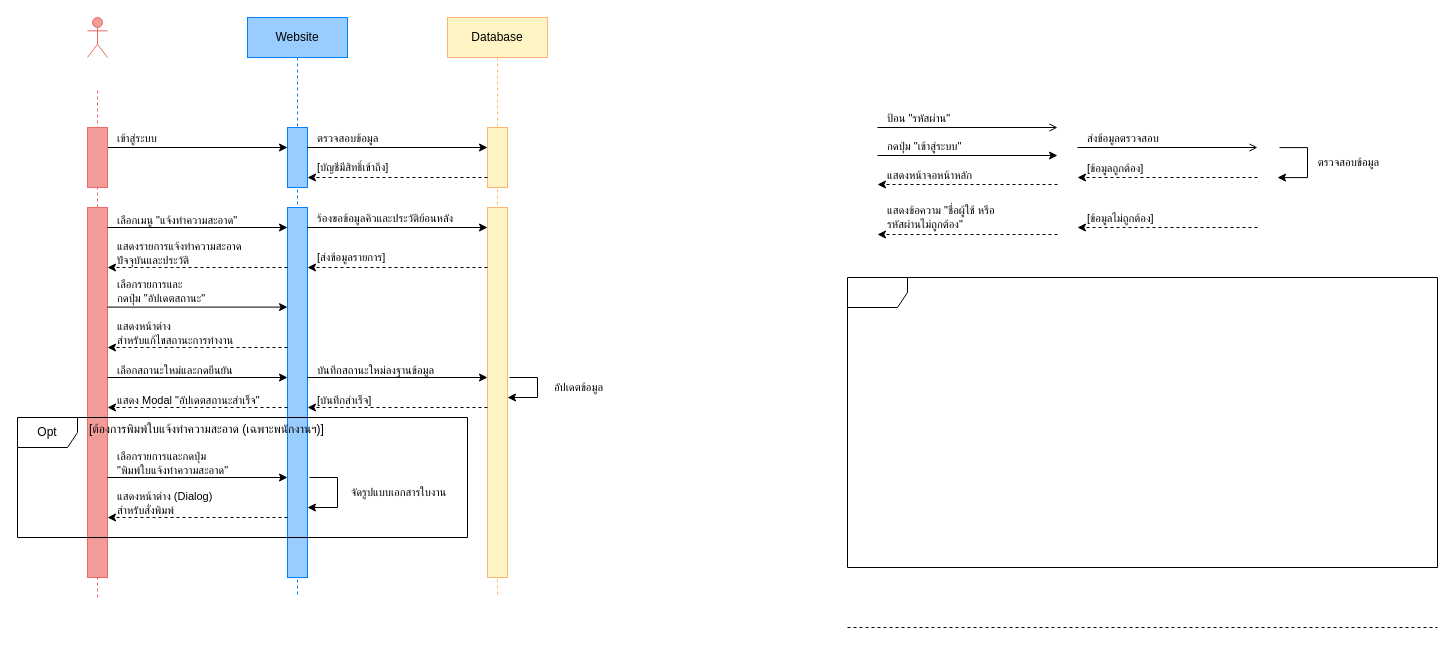
Some shapes in this 1456 by 646 pixel diagram are drawn without their labels. The shapes that lost their labels are listed below. From the top down, each one's centre as x and y in pixels, then its label:
At pixel 97 37: "พนักงานฯ, พนักงานทำความสะอาด".
At pixel 1142 422: "Alt".
